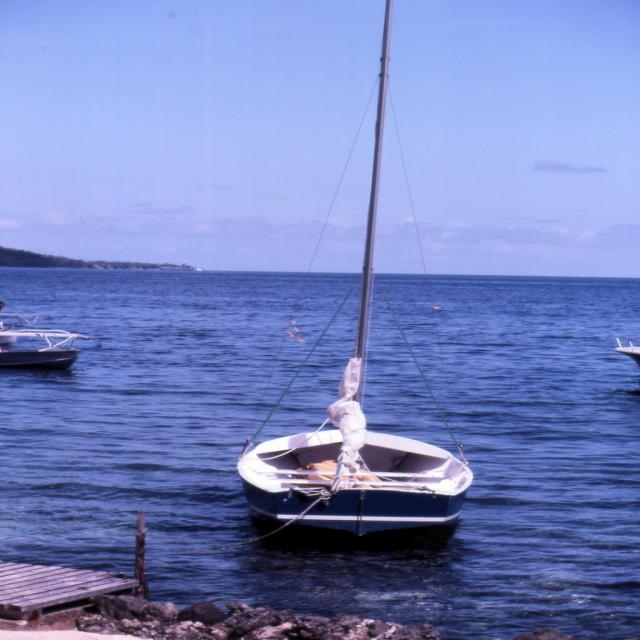Boat: (234, 25, 471, 578), (0, 298, 102, 360), (612, 341, 640, 371)
